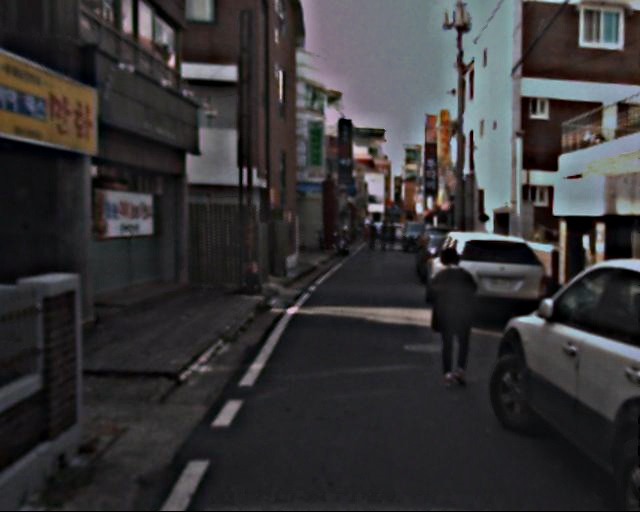person: (423, 250, 481, 385), (367, 218, 402, 254)
